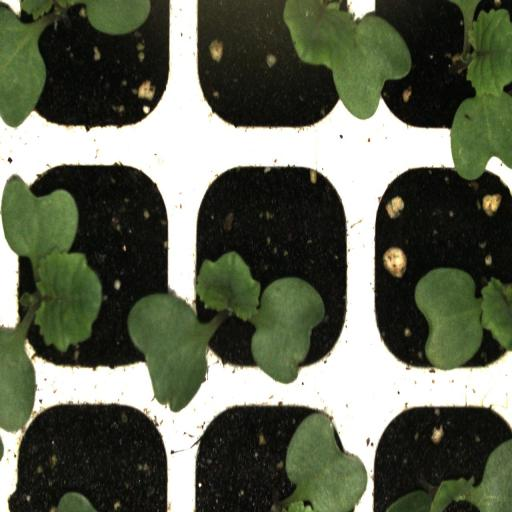seedling: (182, 137, 360, 382), (3, 141, 178, 380), (361, 135, 512, 379), (0, 0, 185, 138), (358, 0, 511, 134)
